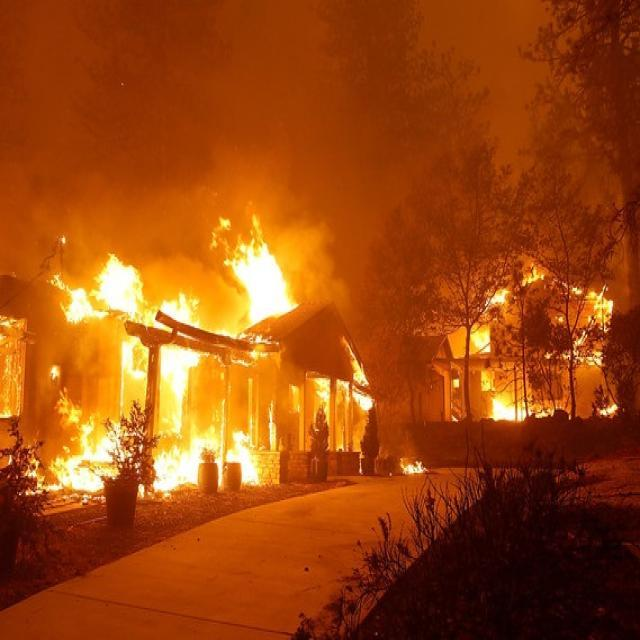Fire: (443, 227, 612, 438), (262, 286, 422, 492), (38, 209, 202, 381), (56, 360, 270, 490), (224, 195, 310, 346)
Smoke: (0, 0, 633, 248)
